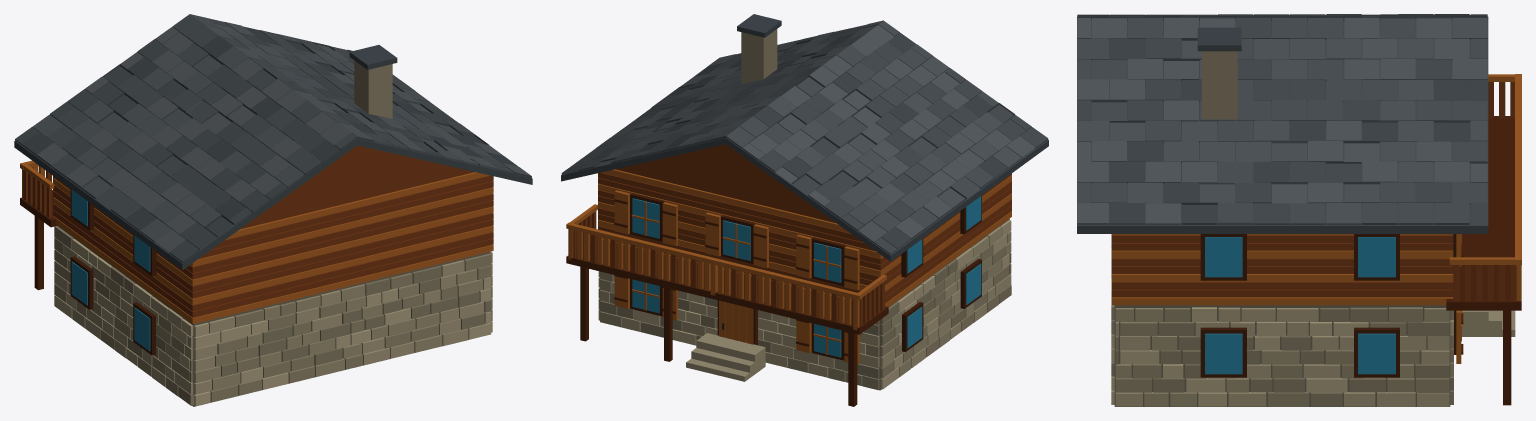
File: Baita_Alpina_LowPoly_v2.obj
3 views of the same model, side by side, from view 1: azimuth 30°, elevation 25°; view 2: azimuth 150°, elevation 25°; view 3: azimuth 270°, elevation 25° (orthographic). The views are drawn at different scales.
Visible parts, largest first — view 1: StoneRoofSlabs, Stonework, TimberPlanks, Gables, StoneRoofLeft, SideGlass, Chimney, SideWindowFrame, StoneRoofRight, GroundFloor, SideBaluster, ChimneyCap (+2 smaller); view 2: StoneRoofSlabs, Stonework, TimberPlanks, BalconyBaluster, Gables, Shutter, WindowGlass, BalconyDeck, EntranceSteps, StoneRoofLeft, BalconyTopRail, WindowFrame (+13 smaller); view 3: StoneRoofSlabs, Stonework, TimberPlanks, StoneRoofRight, SideGlass, BalconyDeck, GroundFloor, SideWindowFrame, Chimney, SideBaluster, BalconyTopRail, EntranceSteps (+4 smaller).
Part boxes in pixels (x1,y1,x2,y2): StoneRoofSlabs: (15,14,531,262); Stonework: (54,226,492,405); TimberPlanks: (53,172,493,323); Gables: (243,145,471,226); StoneRoofLeft: (14,139,357,270); SideGlass: (71,190,150,351); Chimney: (354,60,392,118); SideWindowFrame: (70,189,156,355); StoneRoofRight: (357,138,532,184); GroundFloor: (58,226,490,406); SideBaluster: (23,170,51,217); ChimneyCap: (349,45,397,69); StoneRoofSlabs: (561,20,1048,254); Stonework: (598,218,1011,389); TimberPlanks: (598,169,1011,306); BalconyBaluster: (573,230,853,326); Gables: (619,144,833,221); Shutter: (614,190,859,364); WindowGlass: (632,198,841,357); BalconyDeck: (566,236,888,334); EntranceSteps: (686,333,765,381); StoneRoofLeft: (726,138,1048,261); BalconyTopRail: (566,222,862,299); WindowFrame: (630,193,846,360); StoneRoofSlabs: (1077,14,1487,224); Stonework: (1111,234,1453,406); TimberPlanks: (1112,234,1453,305); StoneRoofRight: (1077,20,1488,233); SideGlass: (1205,237,1395,374); BalconyDeck: (1446,116,1521,310); GroundFloor: (1114,305,1450,406); SideWindowFrame: (1200,234,1399,377); Chimney: (1202,51,1237,120); SideBaluster: (1453,82,1516,301); BalconyTopRail: (1515,74,1521,265); EntranceSteps: (1462,310,1515,336).
Size of the model in its own units: 11.8 by 8.58 by 10.61.
